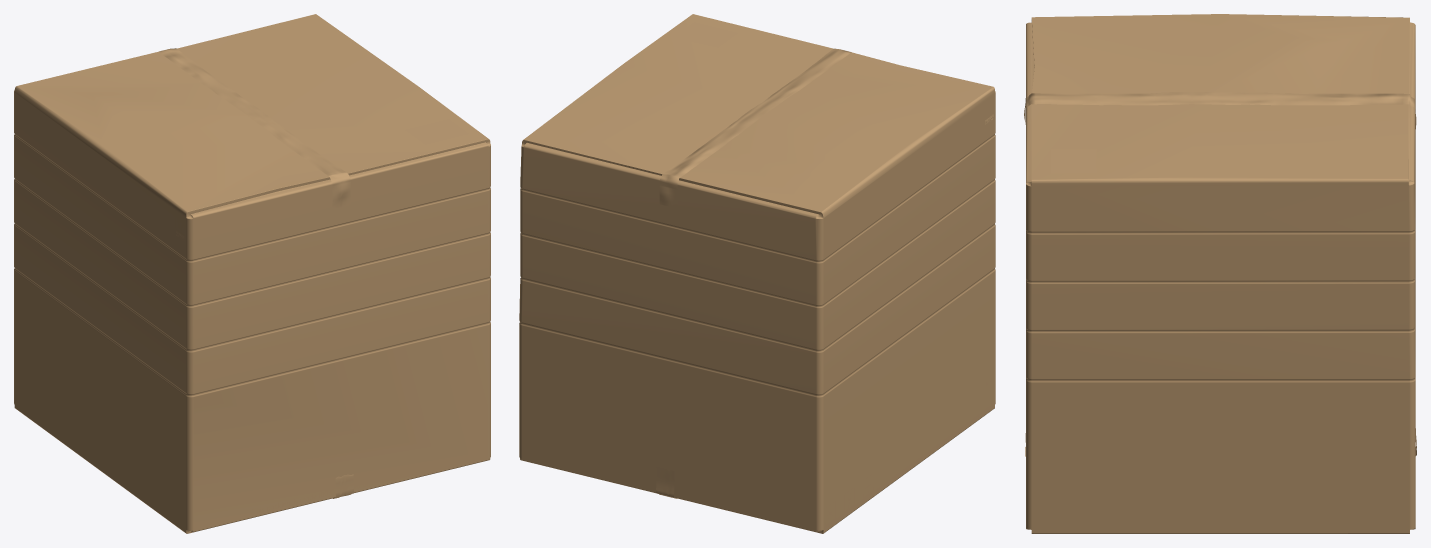
Rendered from box_multiDepth_brown_b09.glb.
The picture shows the model from 3 angles, left to right: view 1: azimuth 30°, elevation 25°; view 2: azimuth 150°, elevation 25°; view 3: azimuth 270°, elevation 25°; orthographic projection. The views are drawn at different scales.
Size of the model in its own units: 0.4052 by 0.4163 by 0.411.
